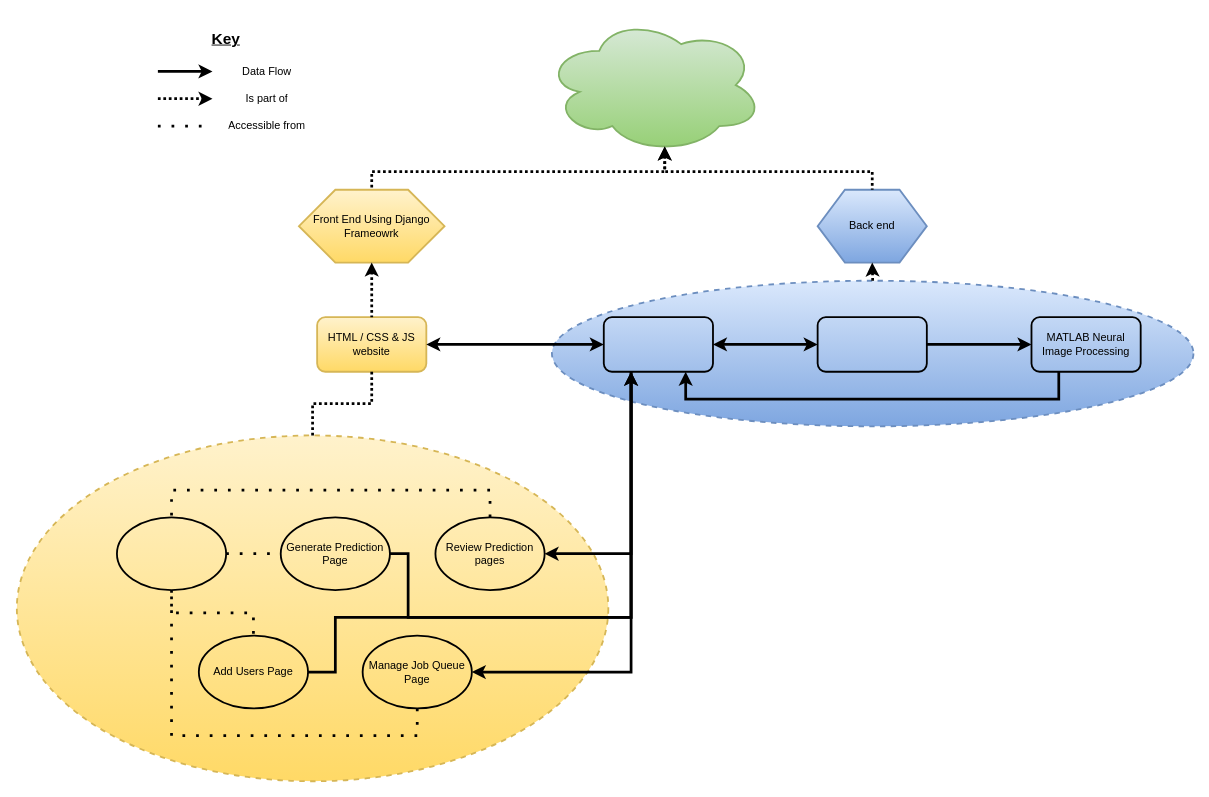
Some shapes in this 1209 by 797 pixel diagram are drawn without their labels. Each missing label, with the centre of its shape:
"'Options' Page" belongs at pixel 171 553.
"Job Queue / Image Processing Management" belongs at pixel 871 344.
"SQL Database" belongs at pixel 657 344.
"VM Server" belongs at pixel 653 84.
